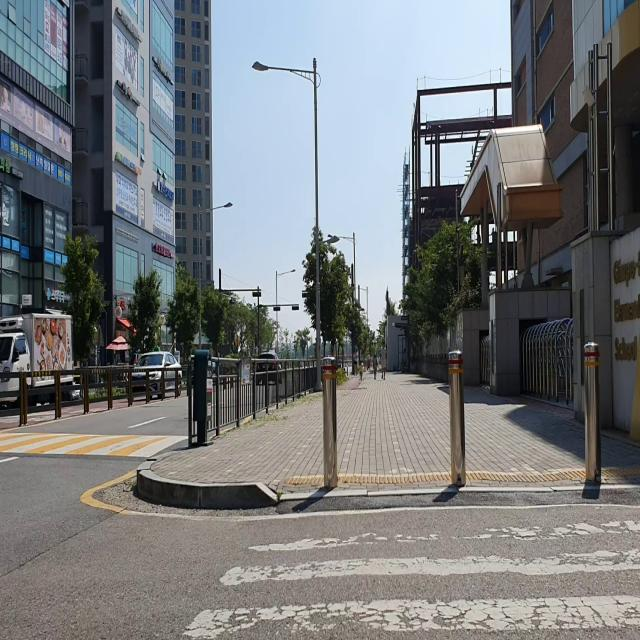횡단보도: (182, 518, 640, 640)
